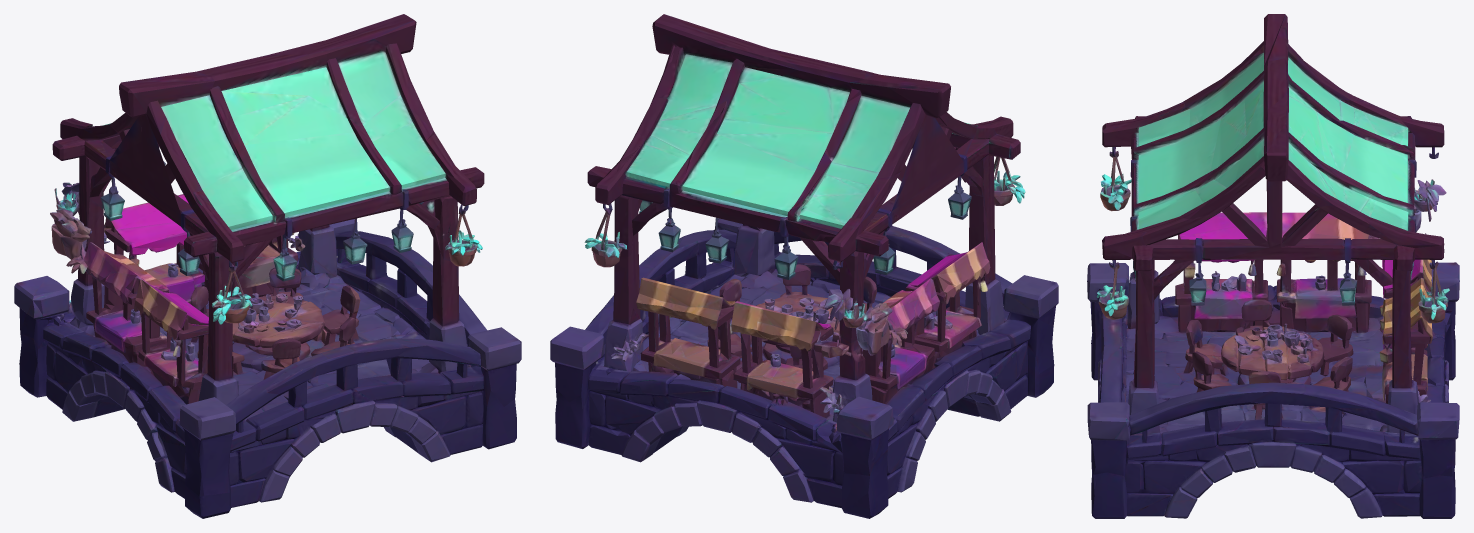
File: union-crossing.glb
3 views of the same model, side by side, from view 1: azimuth 30°, elevation 25°; view 2: azimuth 150°, elevation 25°; view 3: azimuth 270°, elevation 25° (orthographic).
Parts seen in each view (by area): view 1: output_unwrapped; view 2: output_unwrapped; view 3: output_unwrapped.
Boxes of the visible parts, x1,y1,x2,y2 form: output_unwrapped: (14,14,521,518); output_unwrapped: (550,14,1058,518); output_unwrapped: (1087,14,1459,518).
Bounding box in the file's own units: 1.76 × 1.9 × 1.77.
Materials: 1 (1 with a texture image).
